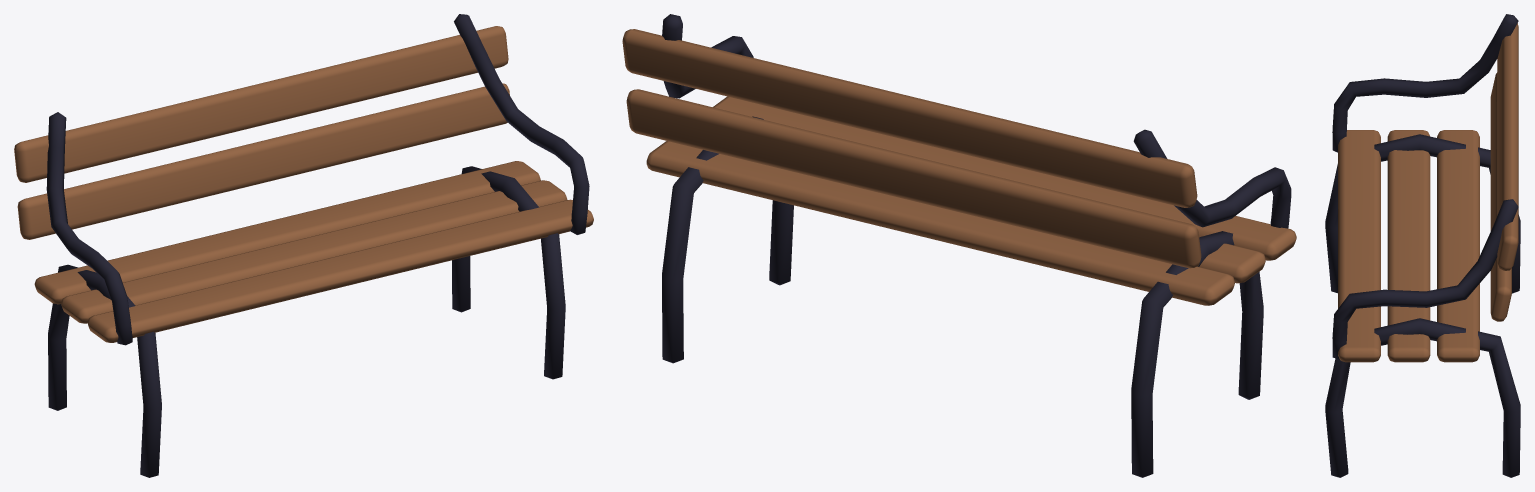
The model's file is bench.glb.
3 views of the same model, side by side, from view 1: azimuth 30°, elevation 25°; view 2: azimuth 150°, elevation 25°; view 3: azimuth 270°, elevation 25° (orthographic). The views are drawn at different scales.
Visible parts, largest first — view 1: bench; view 2: bench; view 3: bench.
Part boxes in pixels (x1,y1,x2,y2): bench: (14, 14, 593, 477); bench: (622, 14, 1296, 477); bench: (1325, 14, 1520, 477).
Size of the model in its own units: 1.6 by 0.9313 by 0.593.
